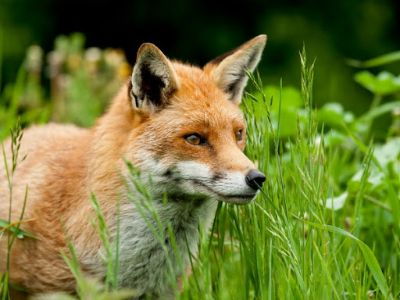fox: (10, 31, 275, 293)
